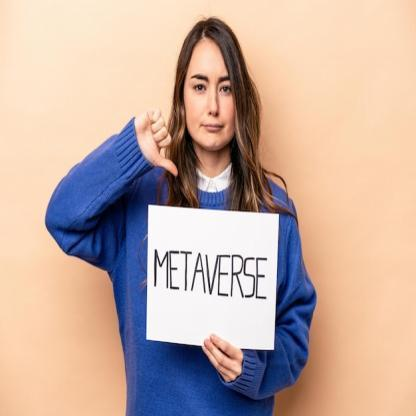thumb_down: (136, 104, 180, 179)
